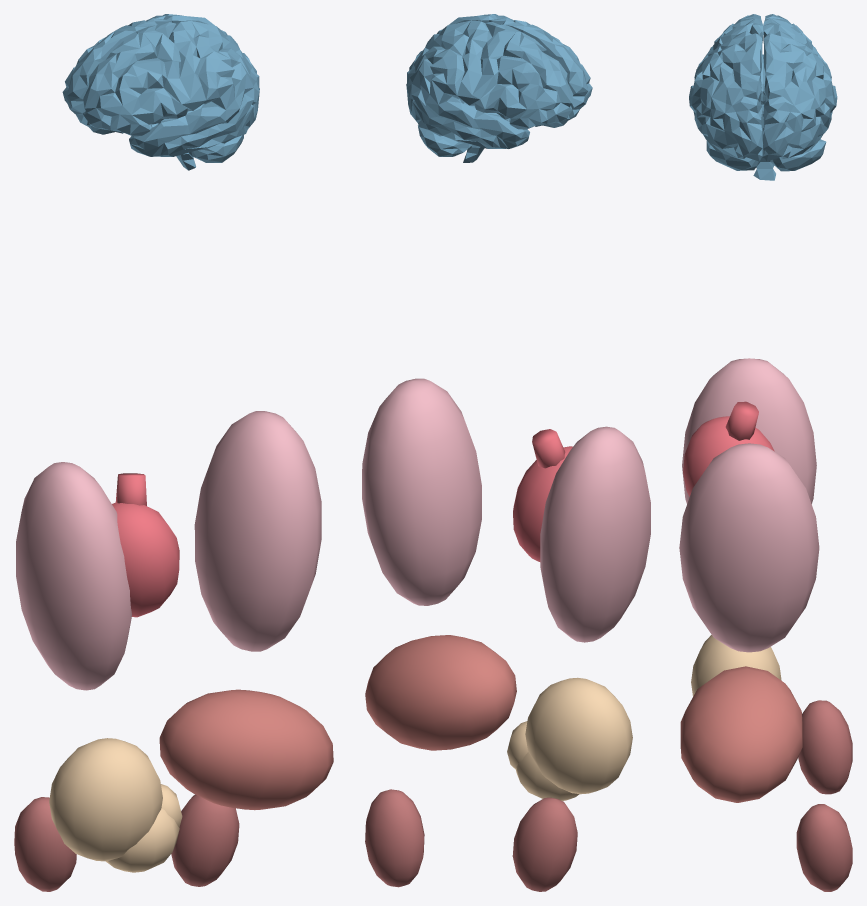
Rendered from body_organs.glb.
3 views of the same model, side by side, from view 1: azimuth 30°, elevation 25°; view 2: azimuth 150°, elevation 25°; view 3: azimuth 270°, elevation 25° (orthographic). The views are drawn at different scales.
Parts seen in each view (by area): view 1: lungs, BRAIN, liver, stomach, kidneys, heart; view 2: lungs, BRAIN, liver, stomach, kidneys, heart; view 3: lungs, BRAIN, liver, kidneys, heart, stomach.
Part boxes in pixels (x1,y1,x2,y2): lungs: [16, 411, 321, 690]; BRAIN: [62, 14, 259, 170]; liver: [159, 689, 333, 810]; stomach: [49, 738, 182, 872]; kidneys: [14, 794, 239, 891]; heart: [112, 473, 179, 617]; lungs: [362, 378, 650, 642]; BRAIN: [406, 14, 592, 162]; liver: [365, 635, 516, 750]; stomach: [507, 677, 632, 800]; kidneys: [365, 789, 577, 891]; heart: [513, 429, 572, 561]; lungs: [679, 358, 819, 652]; BRAIN: [689, 14, 837, 180]; liver: [680, 666, 802, 802]; kidneys: [796, 700, 852, 891]; heart: [683, 401, 774, 496]; stomach: [691, 635, 781, 696].
Size of the model in its own units: 0.2376 by 0.7073 by 0.1336.
